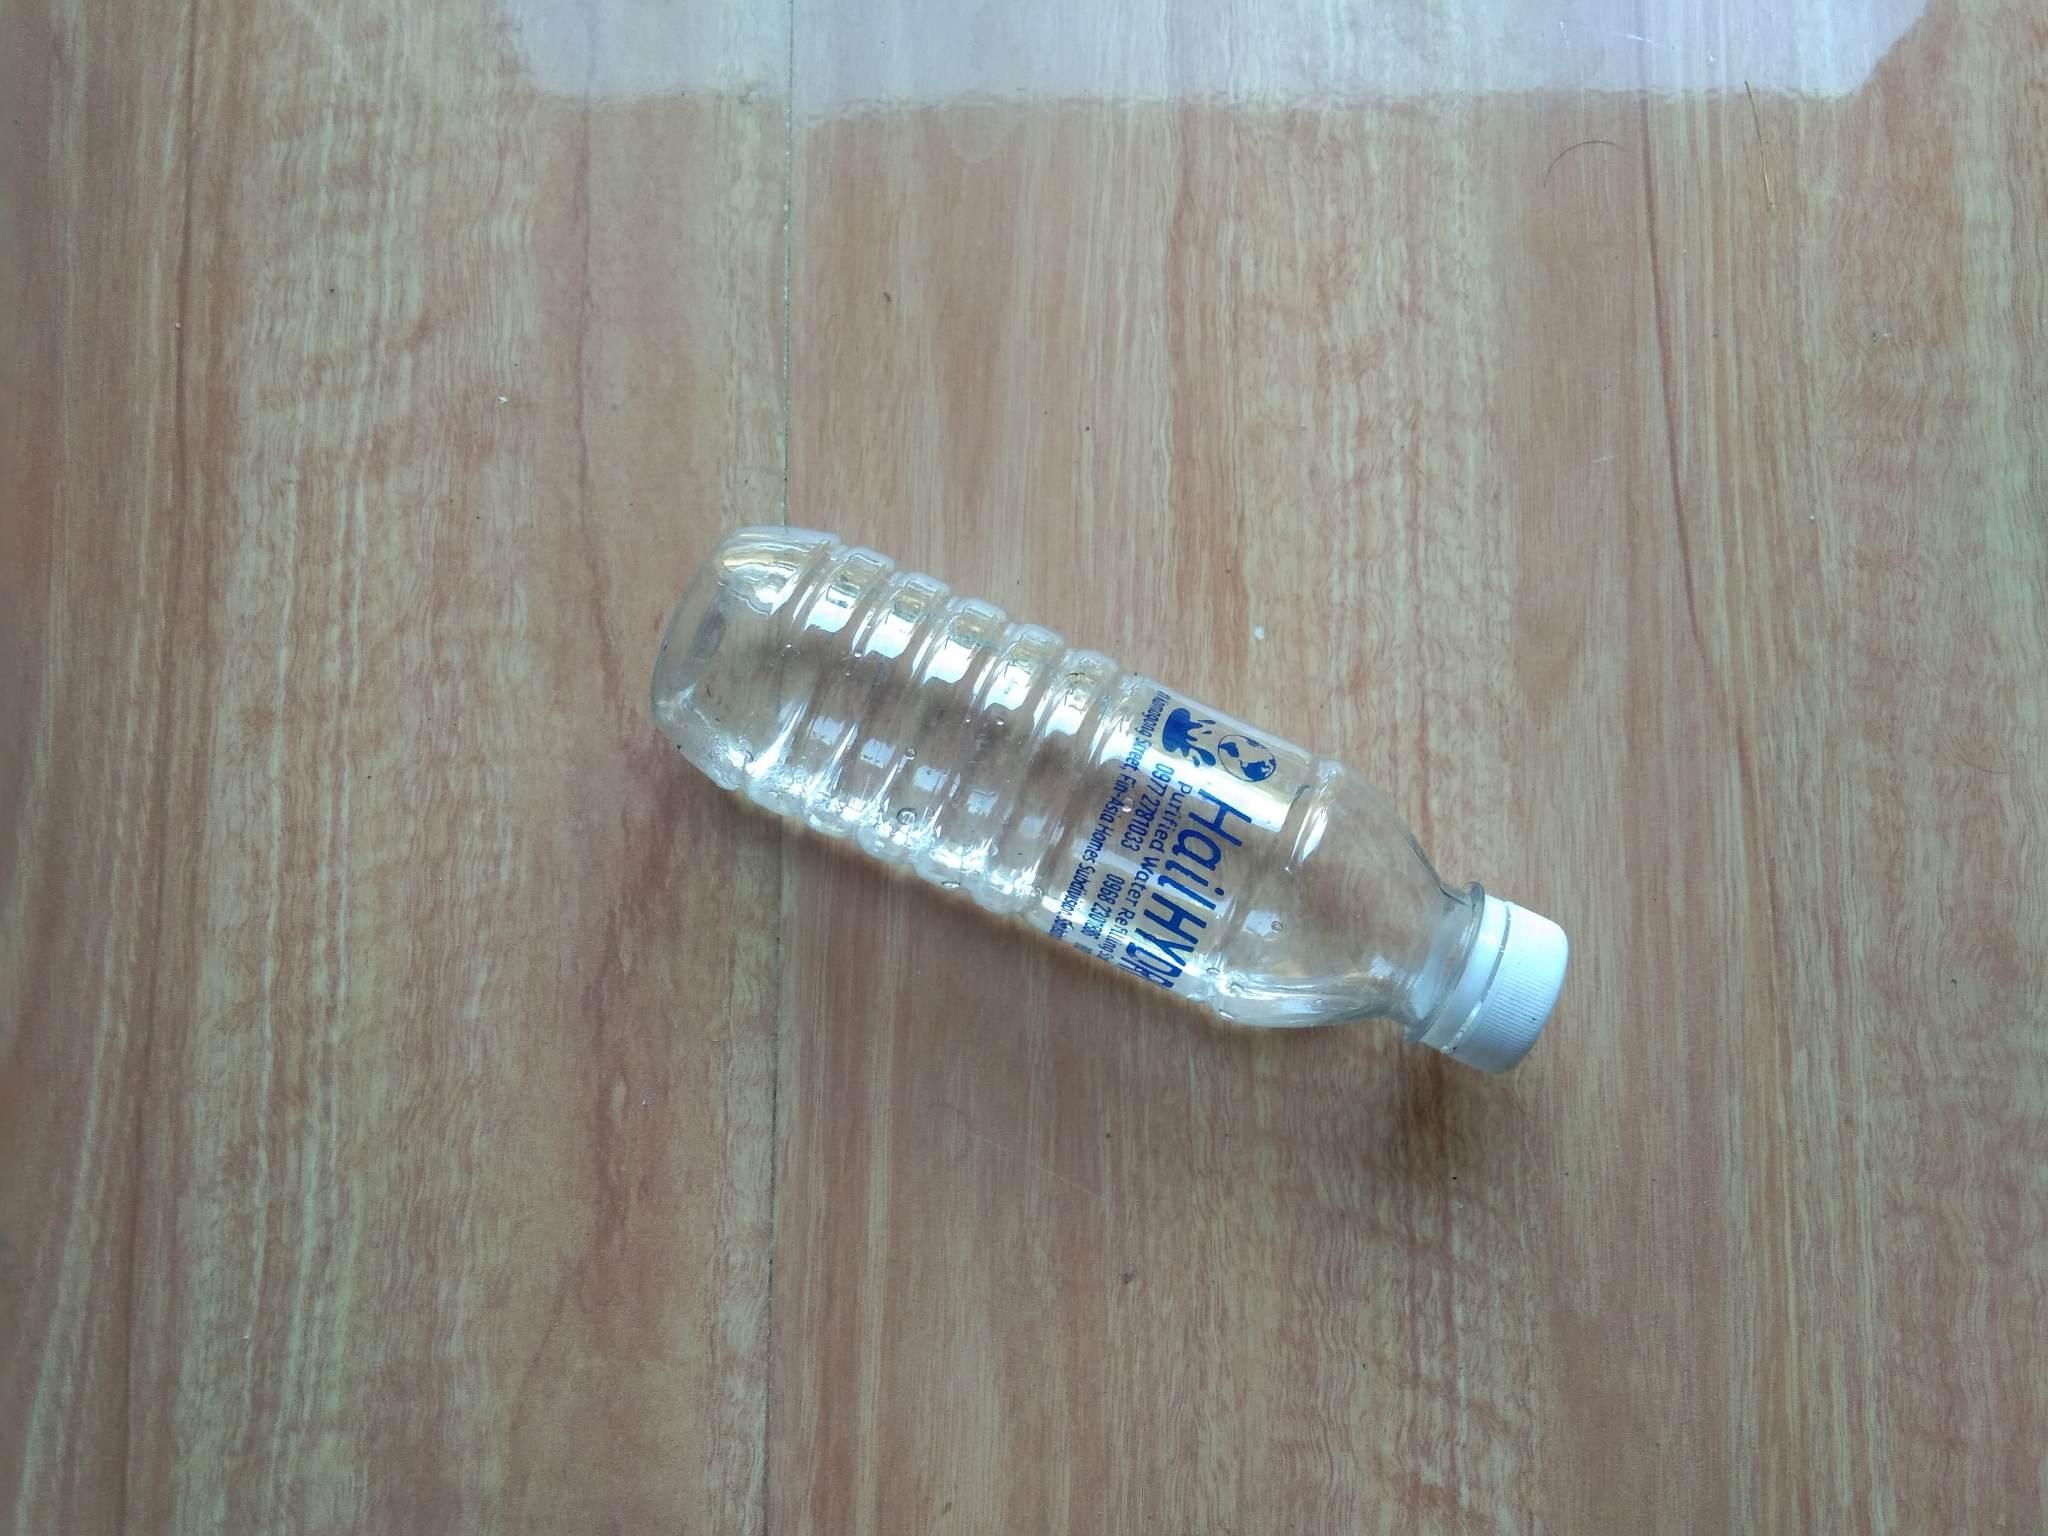plastic: (537, 503, 1632, 1157)
